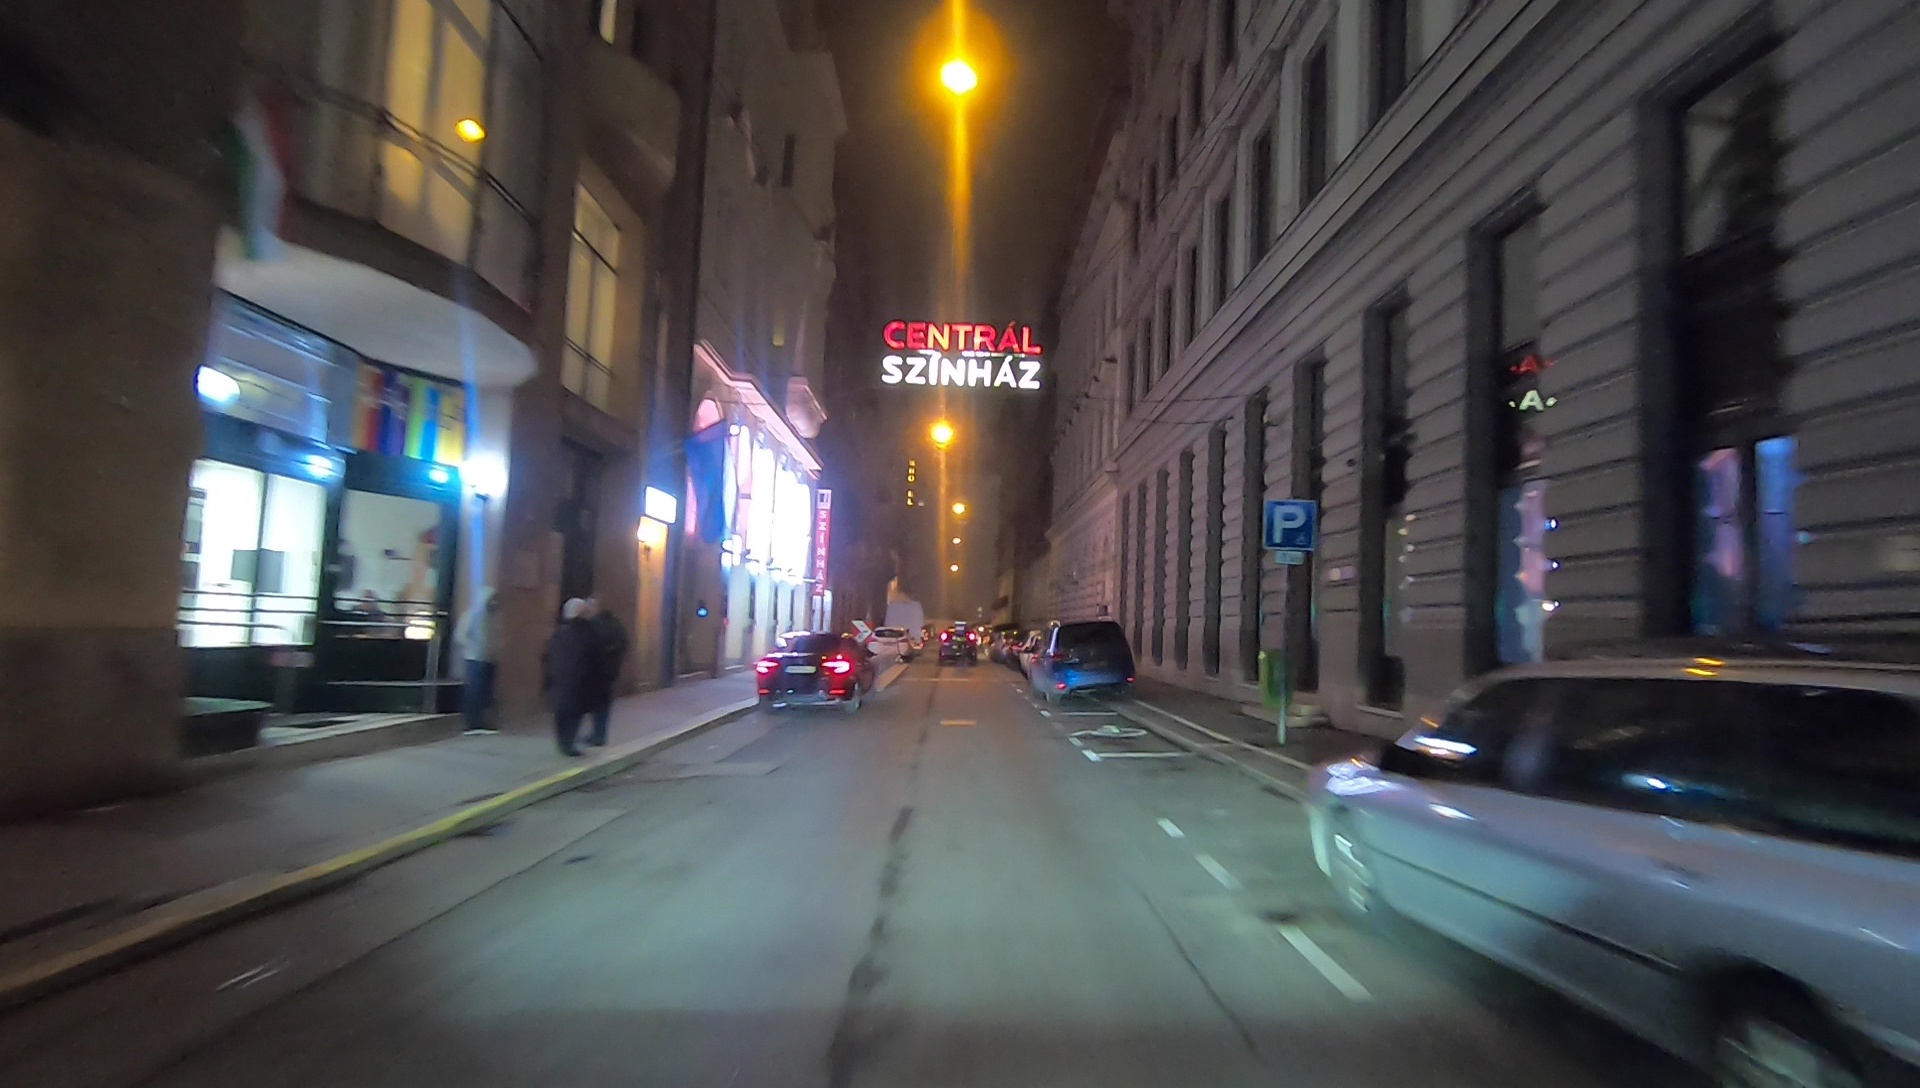person: (543, 600, 591, 763), (458, 584, 508, 734), (582, 599, 626, 749)
